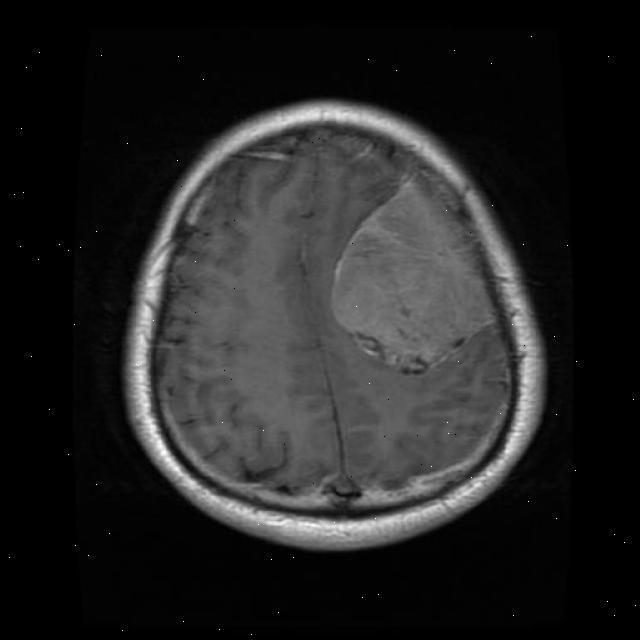Meningioma: (331, 171, 495, 373)
